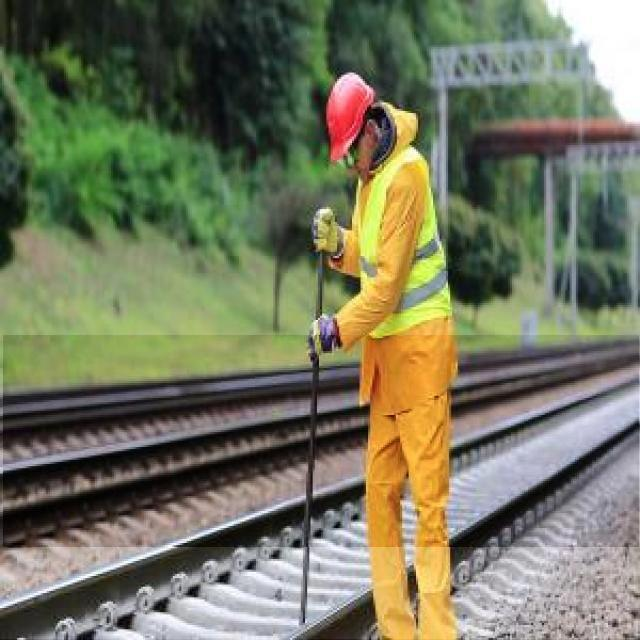rail: (1, 370, 640, 640), (5, 336, 640, 548)
